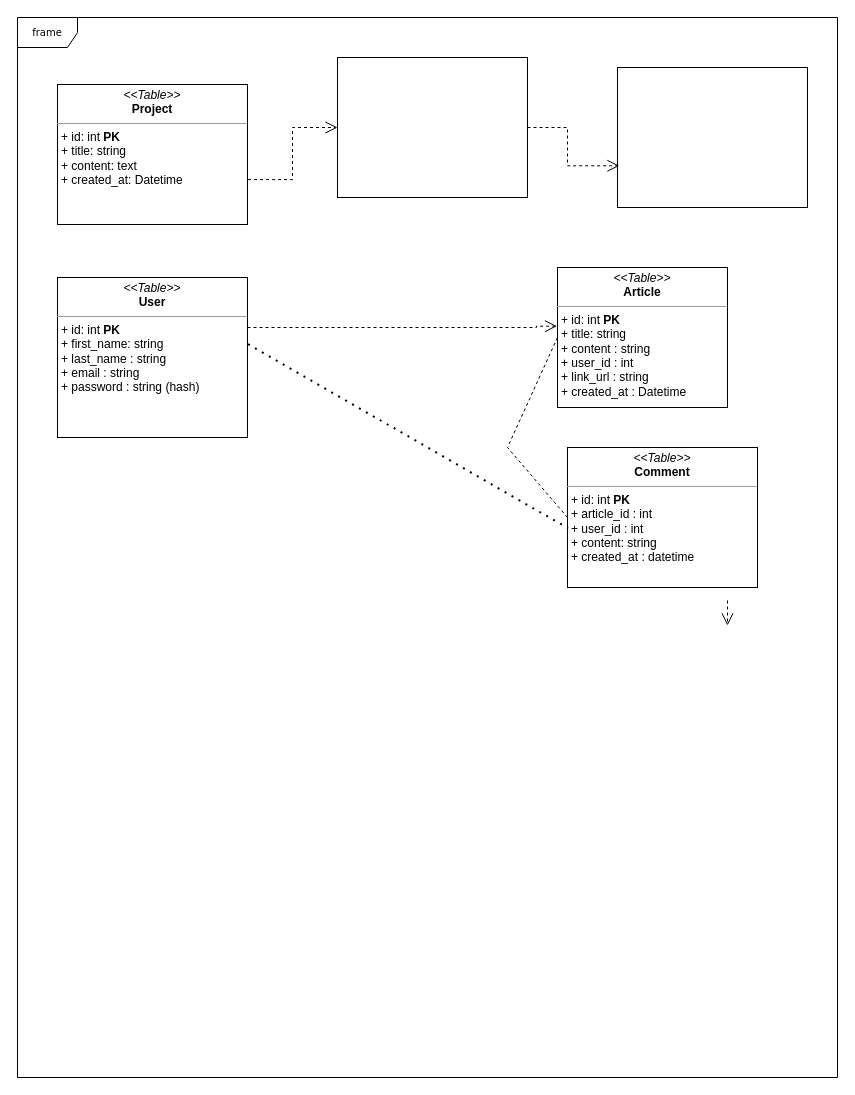
This 855x1095 diagram has some shape labels left out. The box of each missing label's shape, as (x1, y1, x2, y2) in pixels:
<<Table> Language + id : int PK + name : string + img_name: string: (616, 66, 808, 208)
<<Table>> Project_language + id: int PK + project_id: int +language_id : int: (336, 56, 528, 198)
